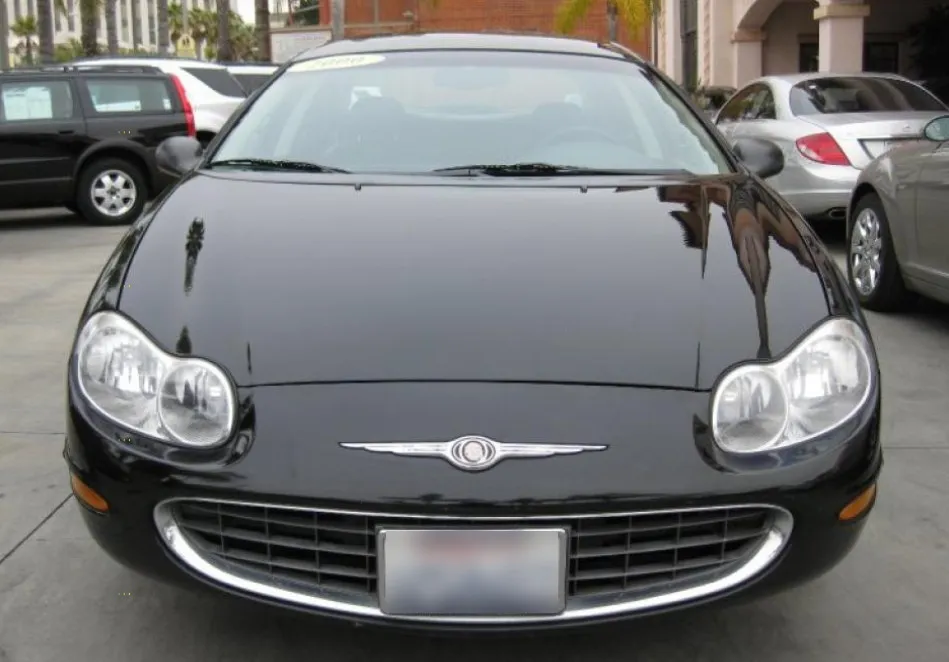car: (53, 23, 885, 637)
